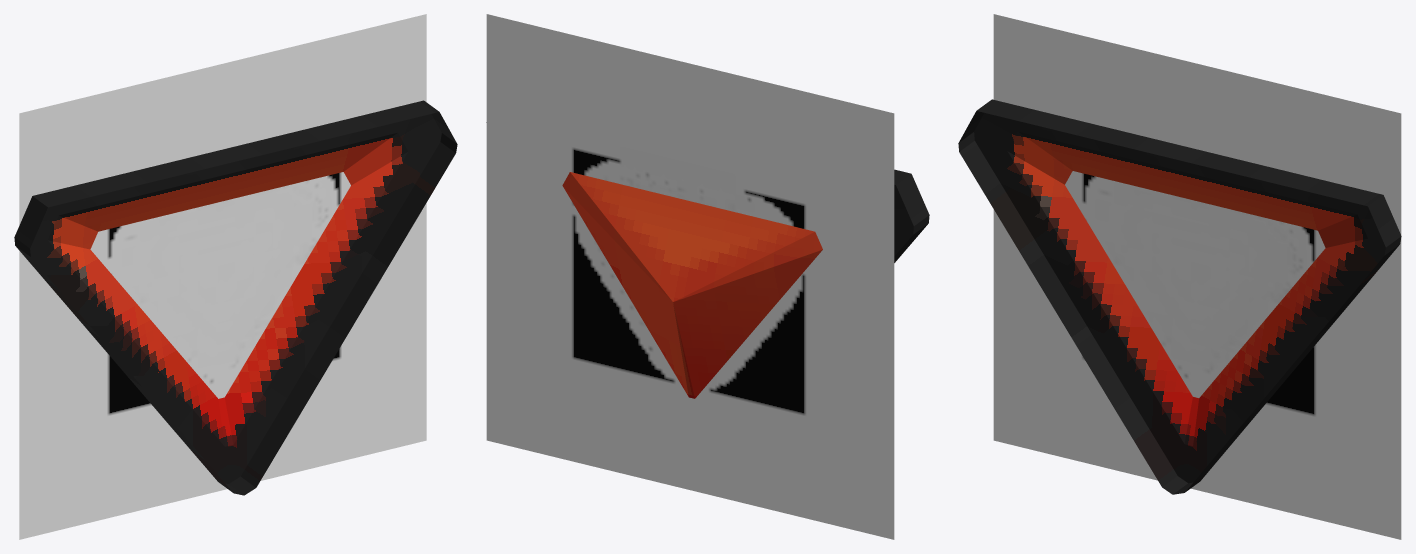
File: BuffDown.fbx
The picture shows the model from 3 angles, left to right: view 1: azimuth 30°, elevation 25°; view 2: azimuth 150°, elevation 25°; view 3: azimuth 330°, elevation 25°; orthographic projection.
Visible parts, largest first — view 1: attach_statusArrow_glow (1), BuffDown; view 2: attach_statusArrow_glow (1), BuffDown; view 3: attach_statusArrow_glow (1), BuffDown.
Part boxes in pixels (box(x1,y1,x2,y2)): attach_statusArrow_glow (1): box(19, 14, 426, 539); BuffDown: box(14, 100, 457, 495); attach_statusArrow_glow (1): box(486, 14, 894, 539); BuffDown: box(486, 122, 929, 398); attach_statusArrow_glow (1): box(993, 14, 1401, 539); BuffDown: box(958, 99, 1401, 494).
Bounding box in the file's own units: 1.2 × 1.15 × 0.2061.
